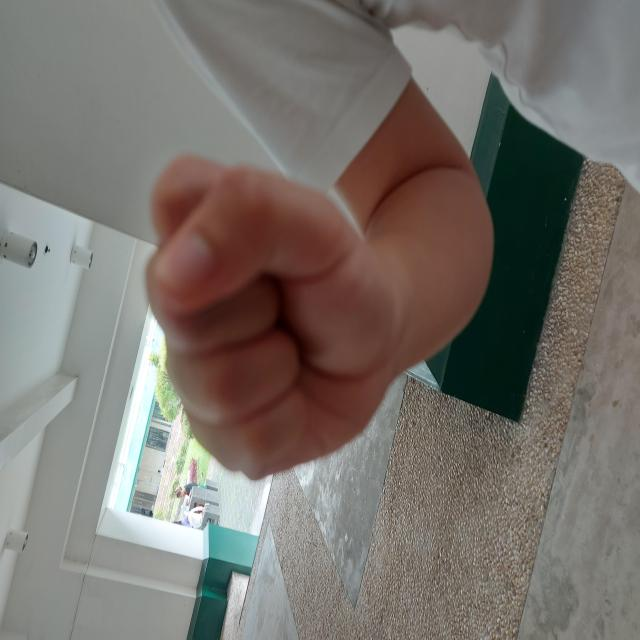S: (157, 144, 485, 395)
